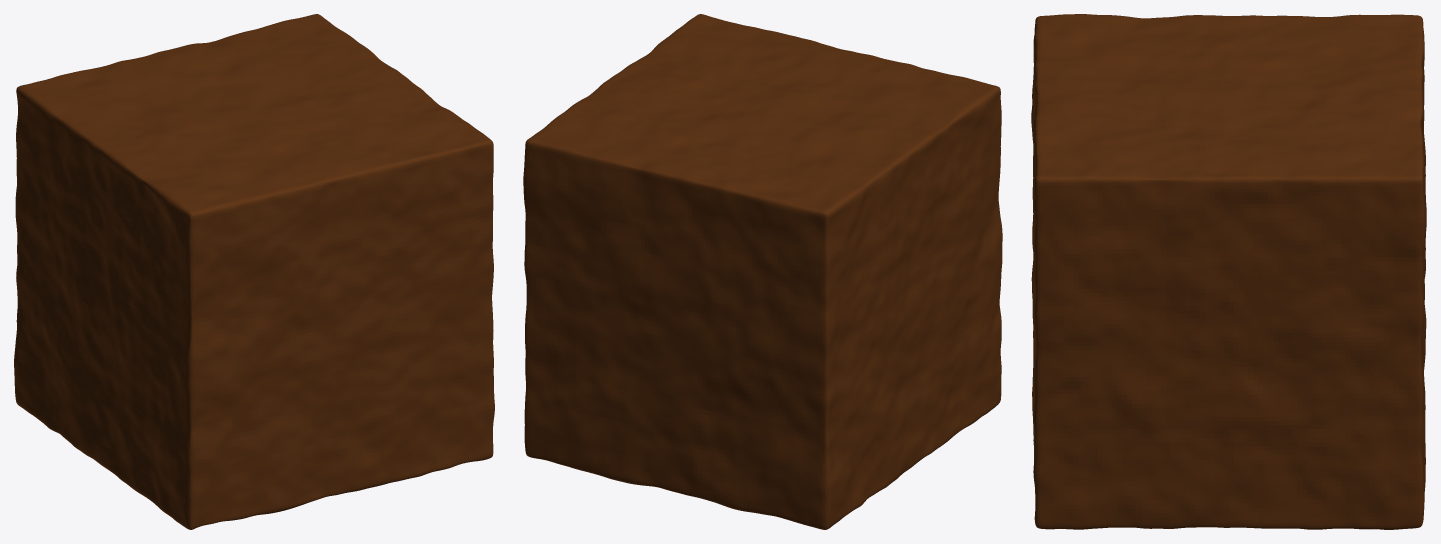
Rendered from GrassBlock.fbx.
3 views of the same model, side by side, from view 1: azimuth 30°, elevation 25°; view 2: azimuth 150°, elevation 25°; view 3: azimuth 270°, elevation 25° (orthographic). The views are drawn at different scales.
Visible parts, largest first — view 1: Cube; view 2: Cube; view 3: Cube.
Part boxes in pixels (x1=…): Cube: x1=14, y1=14, x2=494, y2=529; Cube: x1=523, y1=14, x2=1002, y2=529; Cube: x1=1031, y1=14, x2=1426, y2=529.
Bounding box in the file's own units: 203 × 203 × 204.
